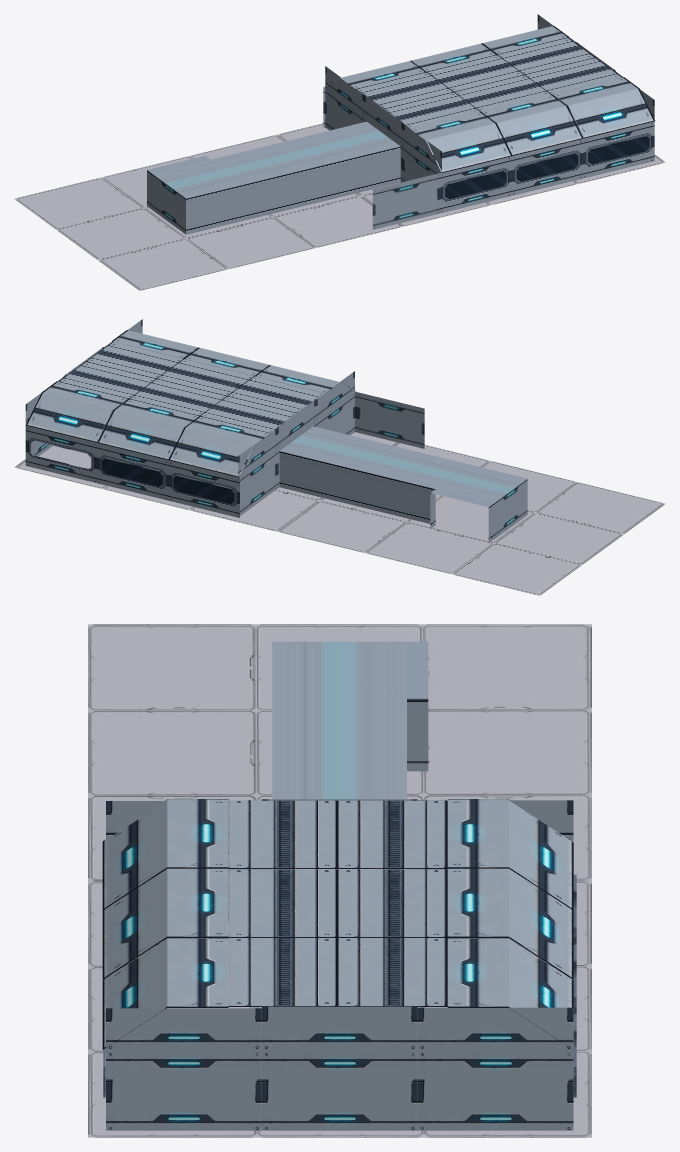
The model's file is station.gltf.
3 views of the same model, one above another, from view 1: azimuth 30°, elevation 25°; view 2: azimuth 150°, elevation 25°; view 3: azimuth 270°, elevation 25° (orthographic). The views are drawn at different scales.
Visible parts, largest first — view 1: Plano (×21), wall (×3), Plano_1 (×3); view 2: Plano (×21), wall (×3), Plano_1 (×2); view 3: Plano (×23).
Part boxes in pixels (x1=…): Plano (×21): x1=14, y1=26, x2=665, y2=290; wall (×3): x1=440, y1=121, x2=654, y2=213; Plano_1 (×3): x1=445, y1=136, x2=649, y2=199; Plano (×21): x1=14, y1=330, x2=665, y2=595; wall (×3): x1=25, y1=425, x2=239, y2=517; Plano_1 (×2): x1=101, y1=458, x2=234, y2=504; Plano (×23): x1=88, y1=624, x2=591, y2=1137.
Bounding box in the file's own units: 26.95 × 3.06 × 11.17.
Materials: 39 (39 with a texture image).
